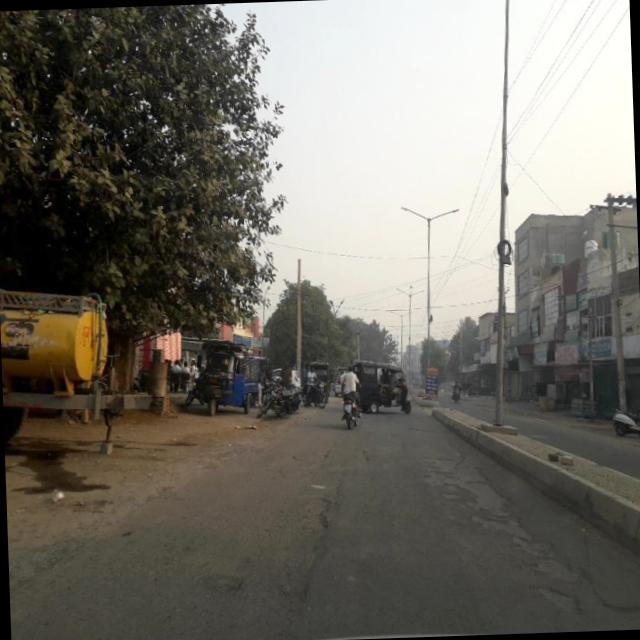crack: (280, 434, 354, 620)
pothole: (463, 511, 598, 620), (421, 449, 512, 514), (188, 542, 258, 614), (270, 492, 335, 540)
